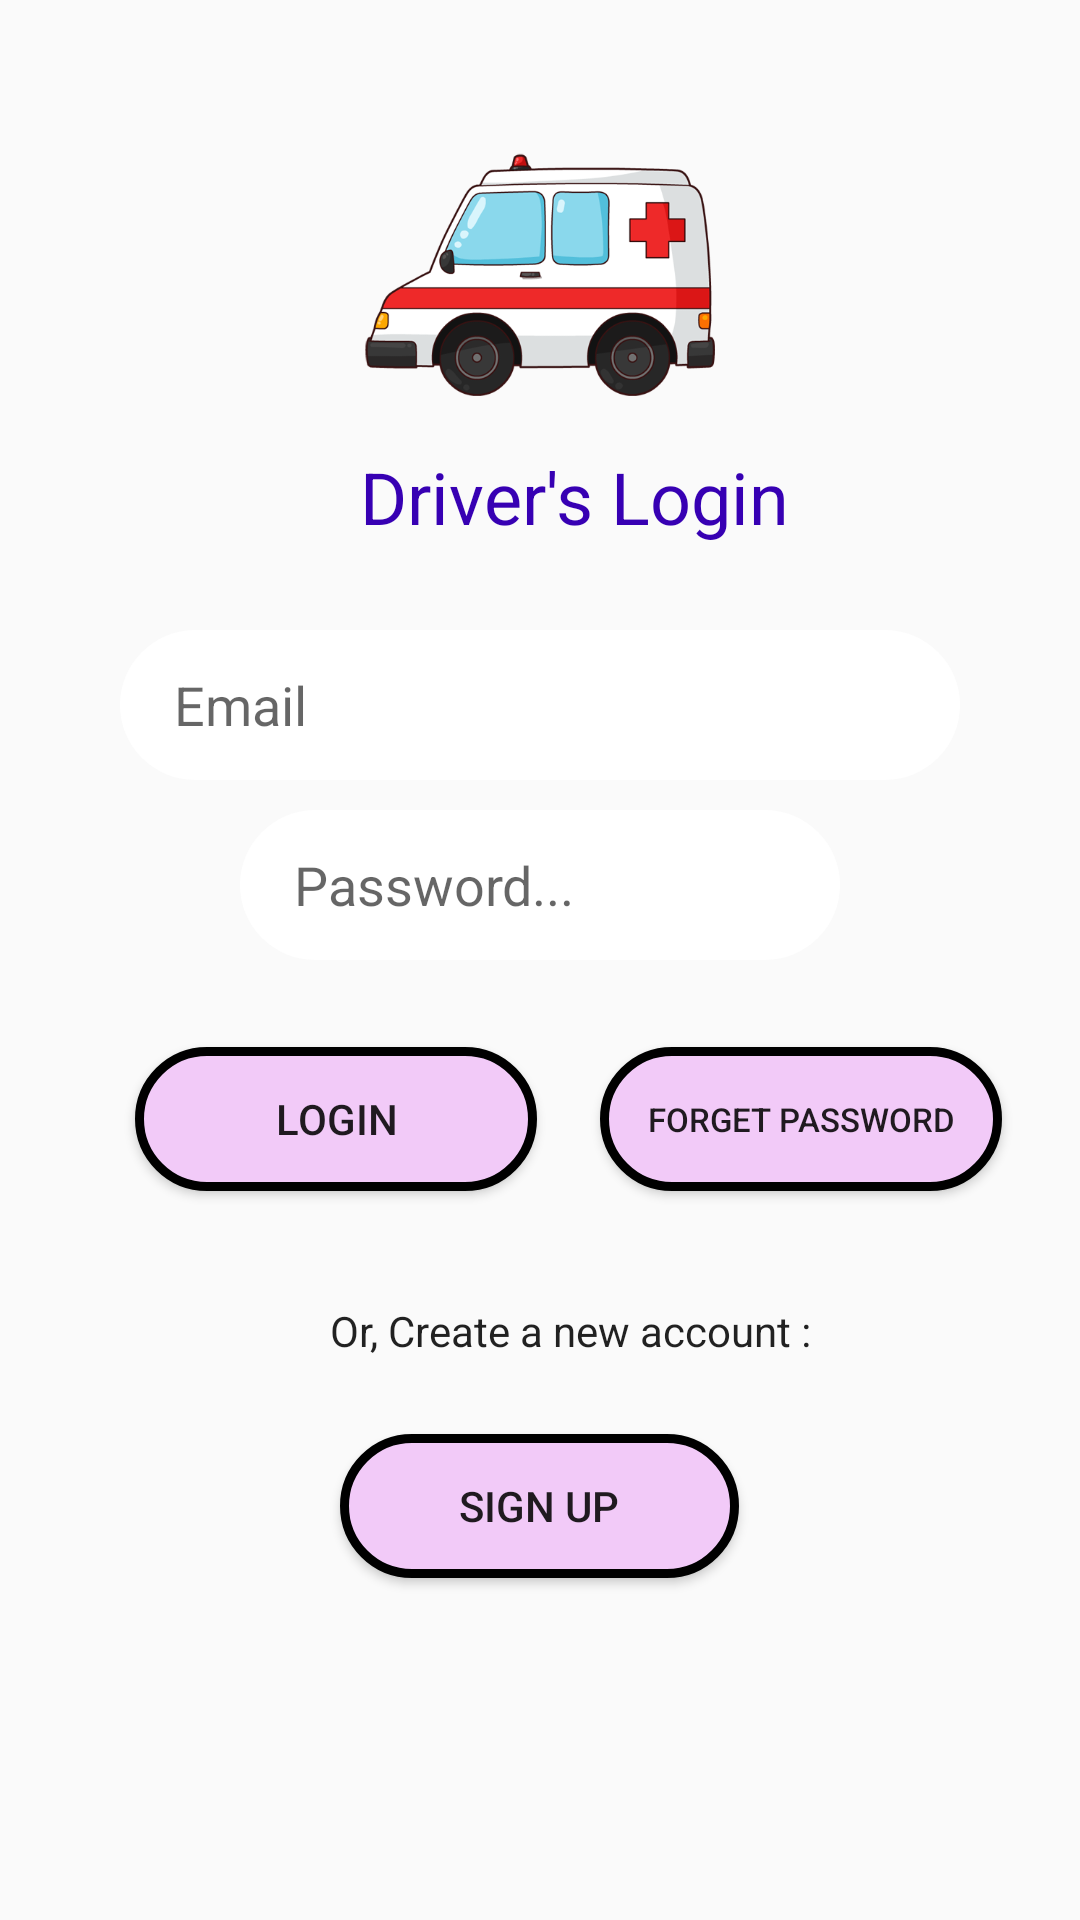

Icons on this 1080 x 1920 Android screen, each with the point to tap as (x=x, y=y):
ambu: (x=540, y=275)
